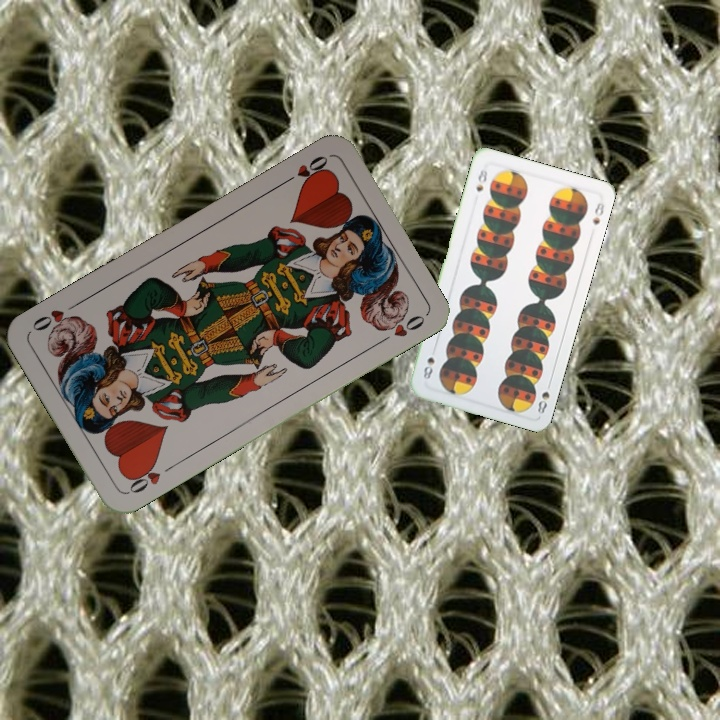HO: (124, 458, 177, 496), (278, 151, 331, 188)
S8: (533, 377, 554, 416), (472, 162, 490, 194)
